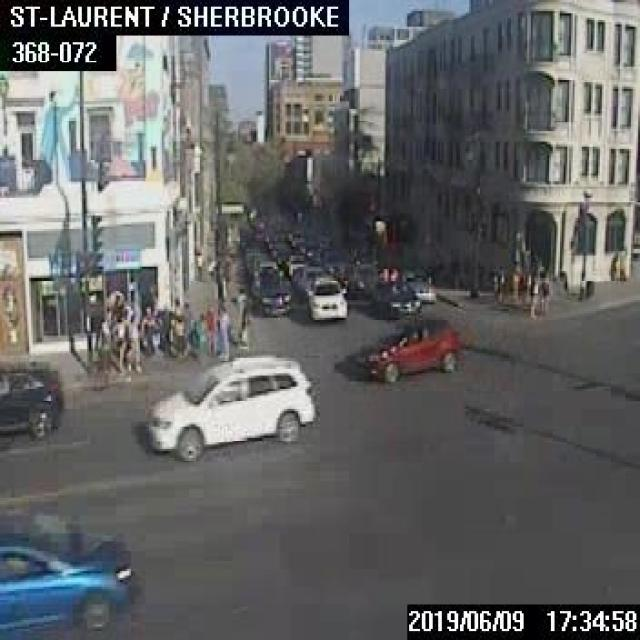pedestrian: (125, 313, 140, 371), (234, 290, 248, 349), (111, 316, 125, 372), (216, 304, 230, 360), (139, 305, 155, 353), (203, 304, 217, 354), (171, 312, 184, 356), (539, 274, 551, 314), (527, 271, 538, 314)
vehicle: (0, 509, 136, 638), (145, 356, 313, 458), (359, 315, 460, 381), (0, 356, 60, 438), (249, 266, 290, 315), (371, 280, 421, 320), (304, 276, 348, 318), (349, 260, 380, 296), (406, 278, 435, 303)
